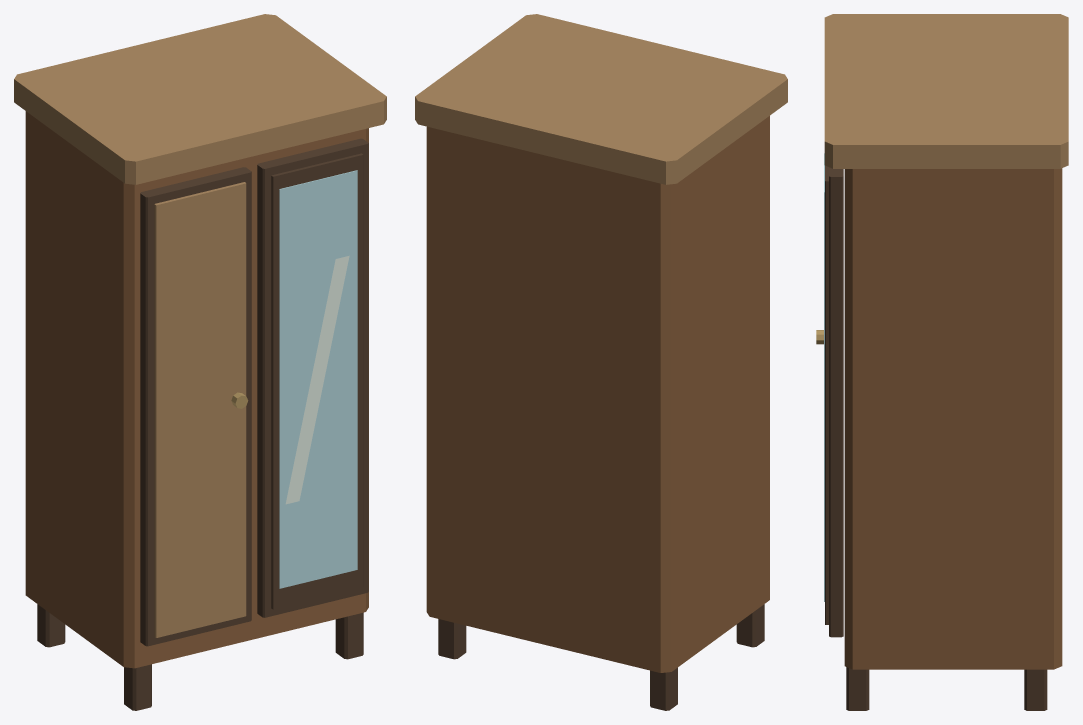
File: wardrobe_mirror.glb
3 renders of one model, left to right at view 1: azimuth 30°, elevation 25°; view 2: azimuth 150°, elevation 25°; view 3: azimuth 270°, elevation 25°, orthographic. The views are drawn at different scales.
Parts seen in each view (by area): view 1: geometry, mirror; view 2: geometry; view 3: geometry, mirror.
Part boxes in pixels (x1,y1,x2,y2): geometry: [14, 14, 386, 710]; mirror: [279, 170, 357, 588]; geometry: [415, 14, 787, 710]; geometry: [816, 14, 1068, 710]; mirror: [824, 153, 824, 601].
Size of the model in its own units: 0.94 by 1.92 by 0.766.
